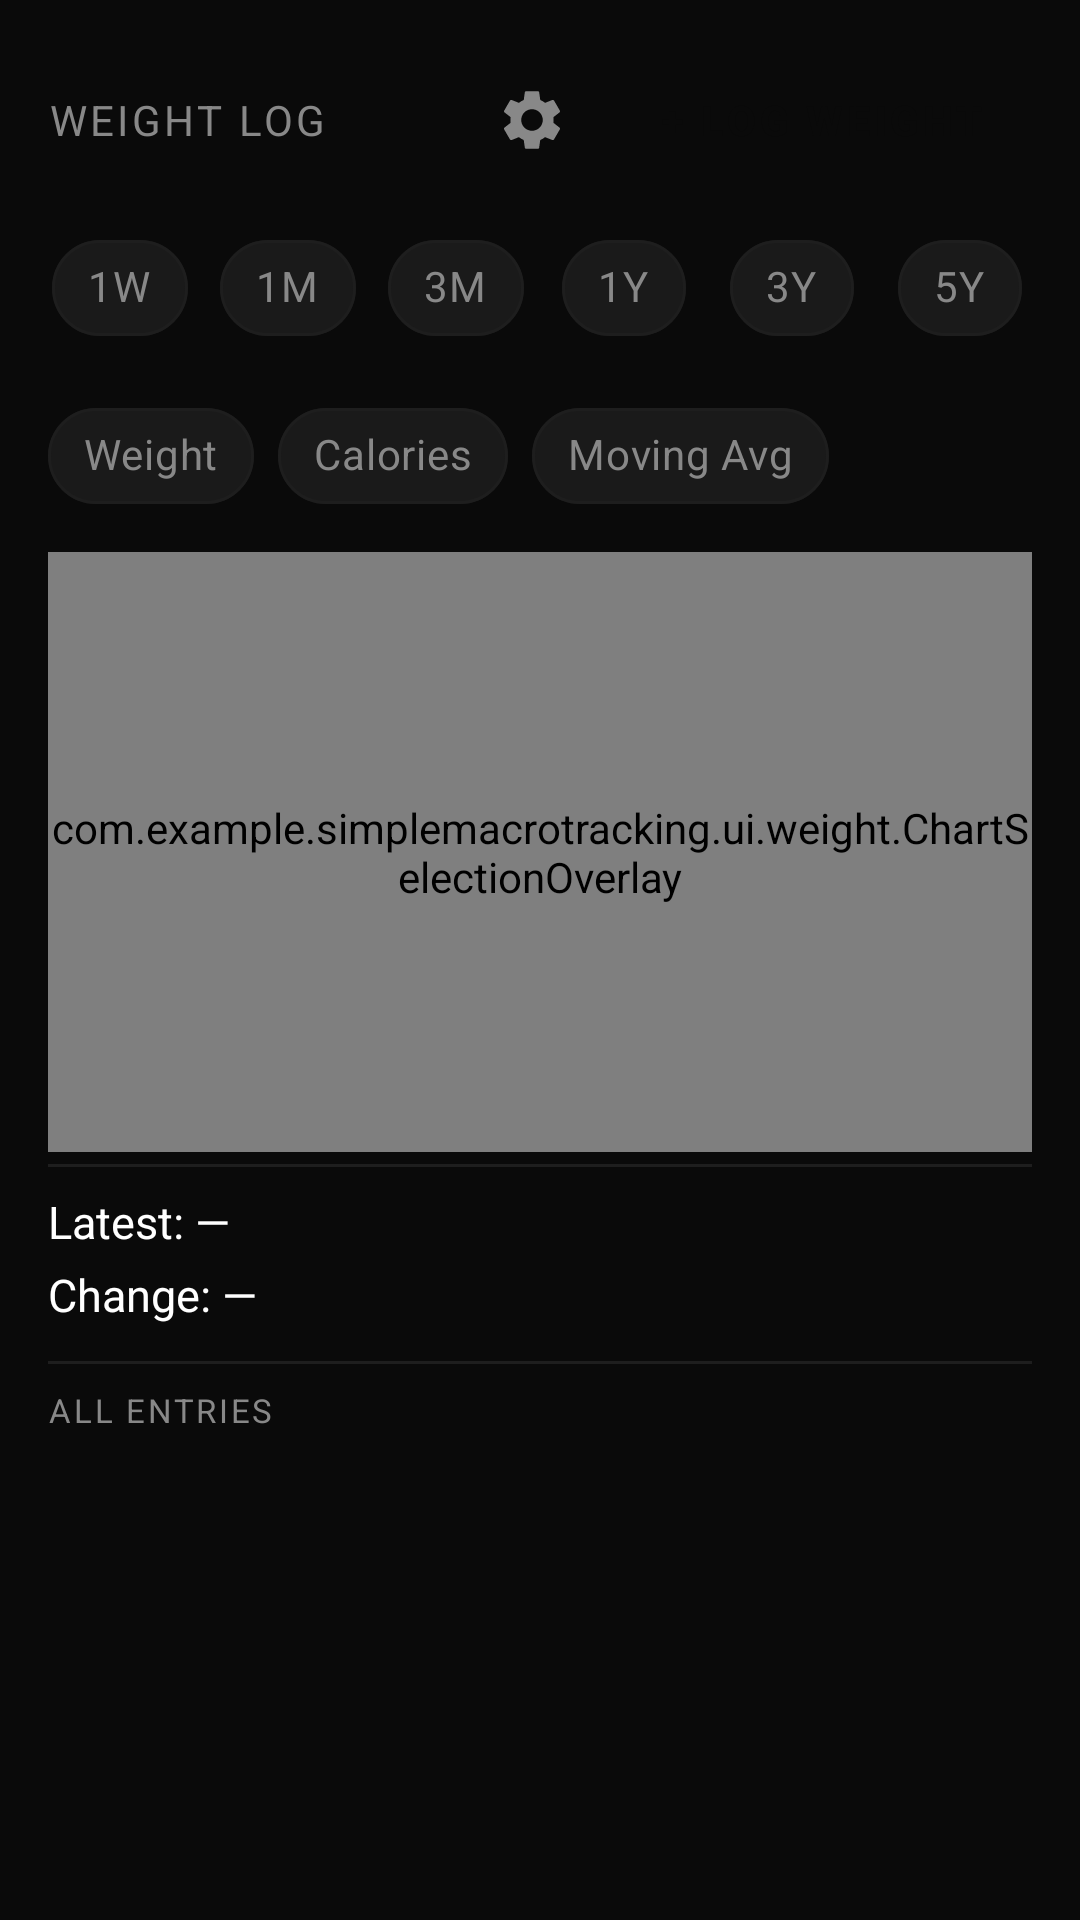

Icons on this 1080 x 1920 Android screen, each with the point to tap as (x=x, y=y):
Chart settings: (x=532, y=120)
